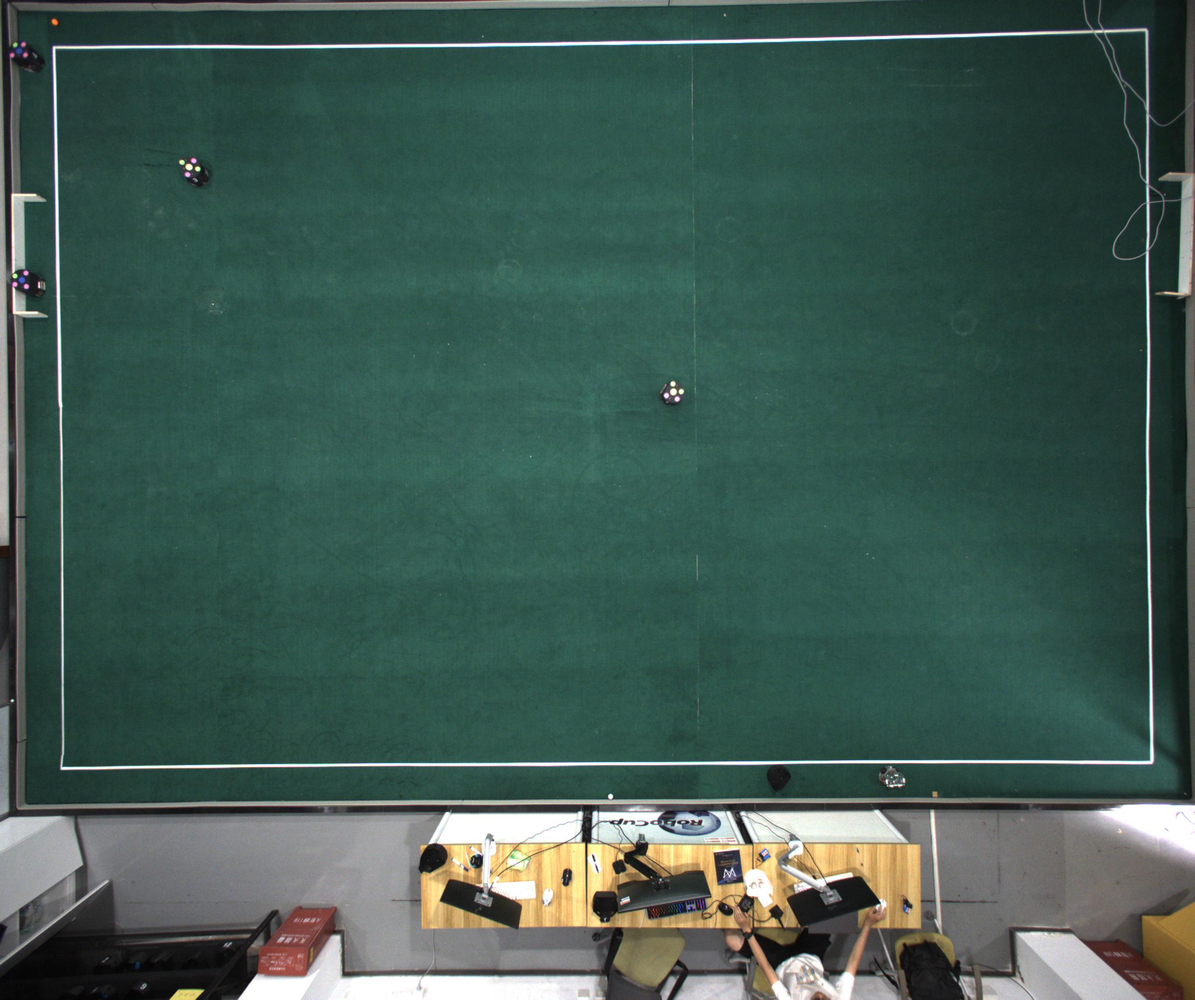ball: (52, 18, 58, 26)
blue_bot: (9, 40, 29, 61), (12, 269, 31, 291)
yellow_bot: (178, 156, 202, 179), (663, 381, 685, 404)
